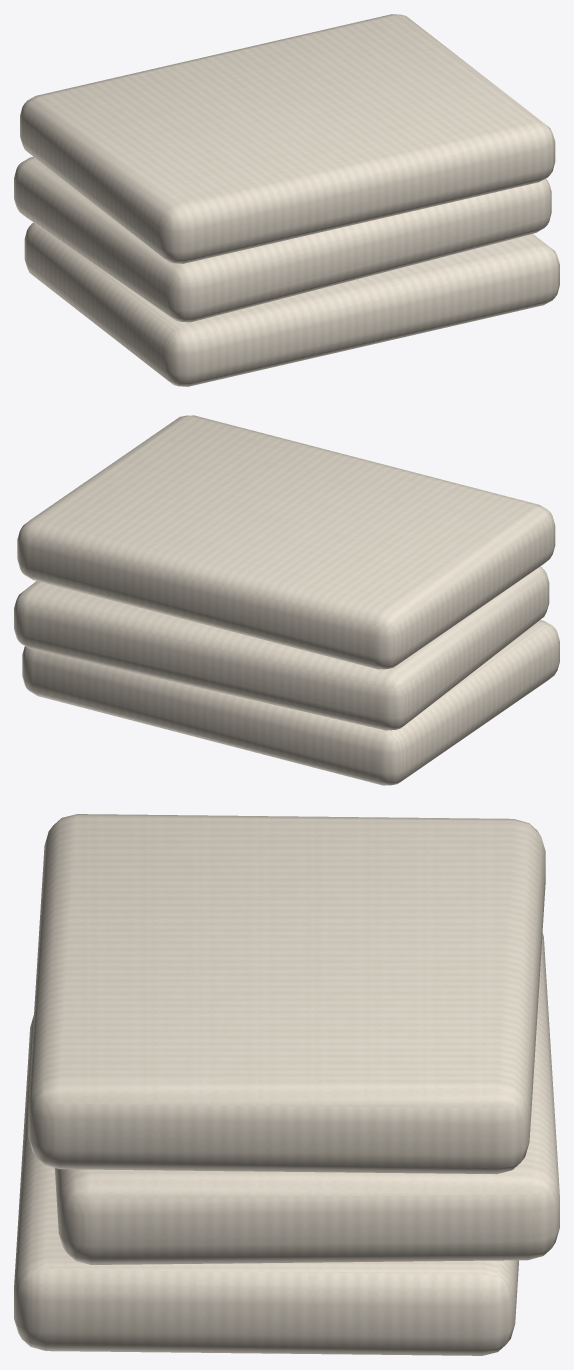
The model's file is SM_Cloth_Stack_Linen.fbx.
The picture shows the model from 3 angles, top to bottom: view 1: azimuth 30°, elevation 25°; view 2: azimuth 150°, elevation 25°; view 3: azimuth 270°, elevation 25°; orthographic projection. The views are drawn at different scales.
Parts seen in each view (by area): view 1: SM_Cloth_Stack_Linen; view 2: SM_Cloth_Stack_Linen; view 3: SM_Cloth_Stack_Linen.
Boxes of the visible parts, bbox=[...] form: SM_Cloth_Stack_Linen: bbox=[14, 14, 559, 386]; SM_Cloth_Stack_Linen: bbox=[14, 415, 559, 785]; SM_Cloth_Stack_Linen: bbox=[14, 814, 559, 1355].
Size of what is drawn, in the model's own units: 0.3863 by 0.167 by 0.3049.
1 material, 1 textured.
